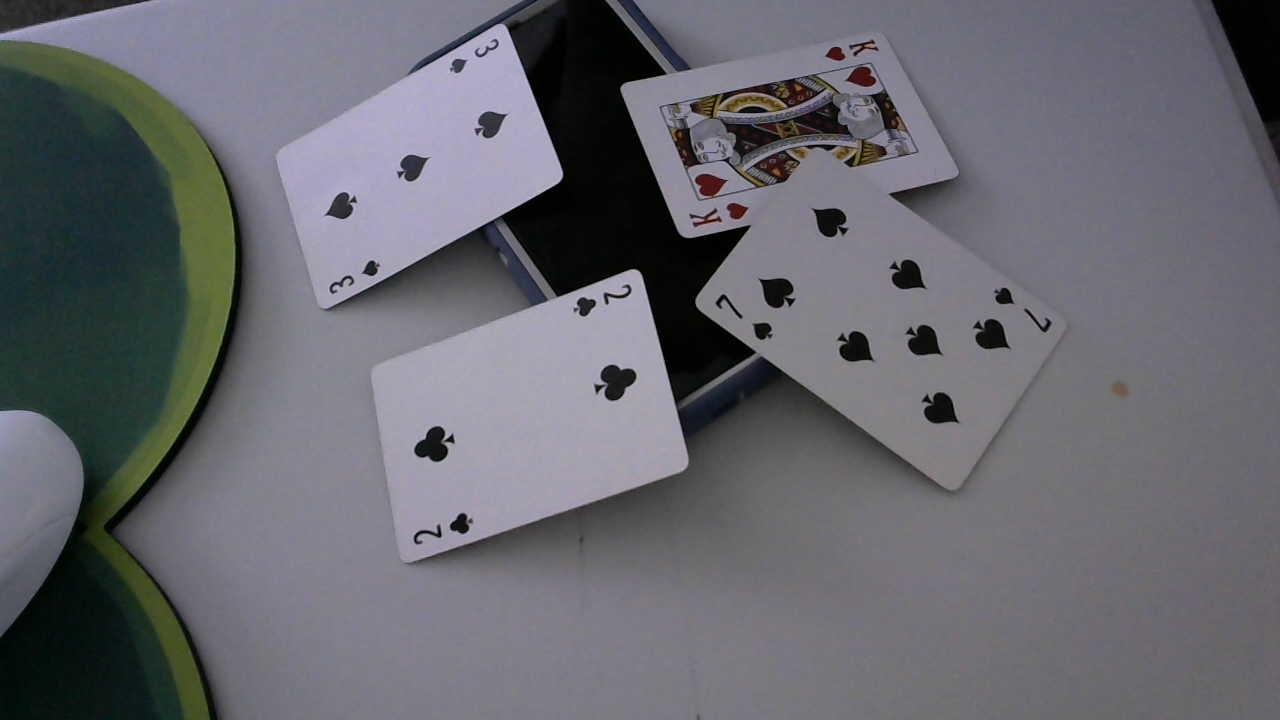2C: (409, 510, 480, 547), (572, 284, 634, 318)
3S: (325, 256, 384, 297), (444, 34, 500, 75)
7S: (713, 291, 777, 345), (988, 285, 1055, 336)
KH: (689, 198, 750, 229), (820, 37, 884, 65)
